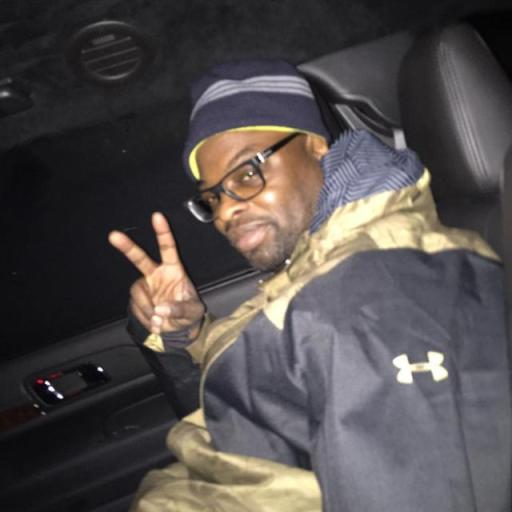Under Armour: (389, 348, 451, 386)
